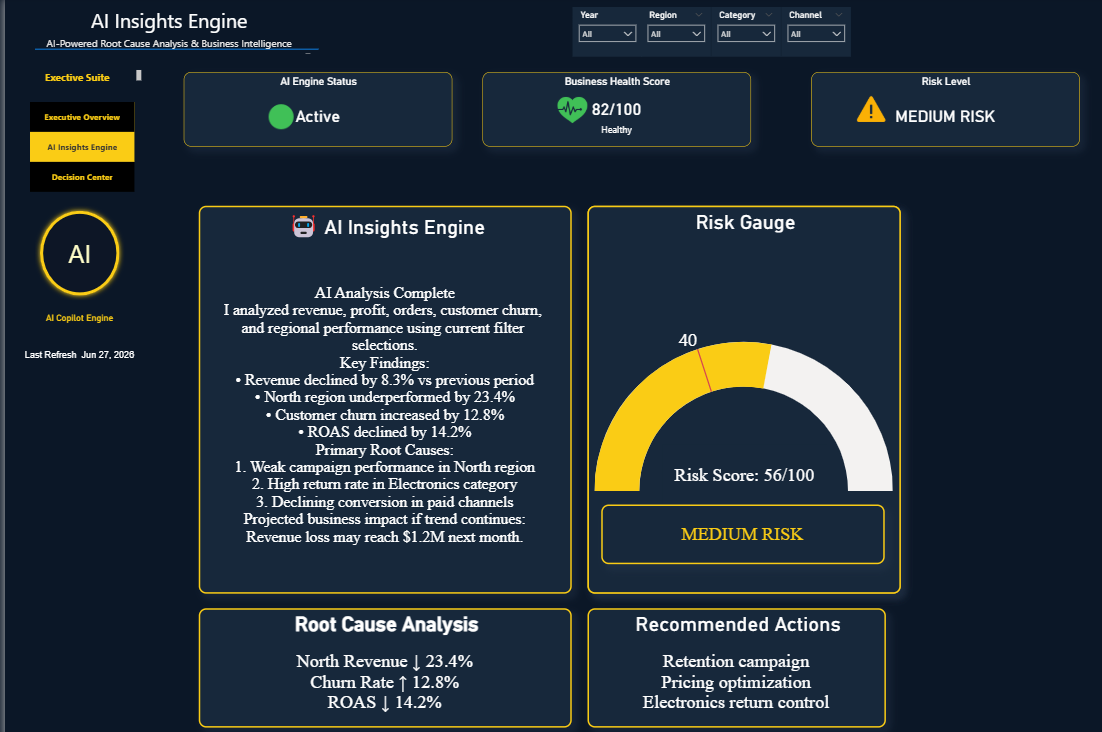

The page's visual inventory and layout, read from the dashboard file:
{"tool":"powerbi","page":{"name":"AI  Insights Engine","canvas":[1800,1200],"ordinal":1},"visuals":[{"type":"gauge","title":"Risk Gauge","fields":{"Y":["KPI_Table.Risk Scores"],"MinValue":["KPI_Table.Gauge Min"],"MaxValue":["KPI_Table.Gauge Max"],"TargetValue":["KPI_Table.Risk Targets"]},"box":[936,336,504,624],"z":0,"group":"g6"},{"type":"group","id":"g1","title":"Group 5","box":[936,336,504,624],"z":0},{"type":"gauge","title":"Risk Gauge","fields":{"Y":["KPI_Table.Risk Scores"],"MinValue":["KPI_Table.Gauge Min"],"MaxValue":["KPI_Table.Gauge Max"],"TargetValue":["KPI_Table.Risk Targets"]},"box":[936,336,504,624],"z":0,"group":"g1"},{"type":"shape","box":[48,0,456,168],"z":1000},{"type":"card","title":"Recommended Actions","fields":{"Values":["KPI_Table.Gauge Content"]},"box":[1056,720,264,96],"z":1000,"group":"g6"},{"type":"card","title":"Recommended Actions","fields":{"Values":["KPI_Table.Gauge Content"]},"box":[1056,792,264,96],"z":1000,"group":"g1"},{"type":"textbox","title":"AI Insights Engine","box":[32,16,464,80],"z":2000},{"type":"slicer","fields":{"Values":["Date_Table.Year"]},"box":[912,16,112,80],"z":3000},{"type":"slicer","fields":{"Values":["Sales_Data.Region"]},"box":[1024,16,112,80],"z":4000},{"type":"slicer","fields":{"Values":["Sales_Data.Category"]},"box":[1136,16,112,80],"z":5000},{"type":"slicer","fields":{"Values":["Sales_Data.Channel"]},"box":[1248,16,112,80],"z":6000},{"type":"card","title":"Business Health Score","fields":{"Values":["KPI_Table.Healthy"]},"box":[768,120,432,120],"z":6000,"group":"g4"},{"type":"textbox","box":[16,112,208,32],"z":7000},{"type":"card","title":"AI Engine Status","fields":{"Values":["KPI_Table.AI Engine Status"]},"box":[288,120,432,120],"z":7000,"group":"g3"},{"type":"card","title":"Risk Level","fields":{"Values":["KPI_Table.Risk Level"]},"box":[1296,120,432,120],"z":8000,"group":"g5"},{"type":"group","id":"g2","title":"Group 1","box":[15.8,168,208,376],"z":8000},{"type":"card","title":"🤖 AI Insights Engine","fields":{"Values":["KPI_Table.AI Analysis Complete"]},"box":[312,336,600,624],"z":9000},{"type":"card","title":"Root Cause Analysis","fields":{"Values":["KPI_Table.Root Cause Analysis"]},"box":[312,984,600,192],"z":10000},{"type":"card","title":"AI Insights","fields":{"Values":["Customer_Data.Refresh"]},"box":[24,552,192,48],"z":11000},{"type":"group","id":"g3","title":"Group 2","box":[288,120,432,144],"z":12000},{"type":"pageNavigator","box":[39.8,168,168,48],"z":12000,"group":"g2"},{"type":"group","id":"g4","title":"Group 3","box":[768,120,432,120],"z":13000},{"type":"pageNavigator","box":[39.8,216,168,48],"z":13000,"group":"g2"},{"type":"group","id":"g5","title":"Group 4","box":[1296,120,432,120],"z":14000},{"type":"pageNavigator","box":[39.8,264,168,48],"z":14000,"group":"g2"},{"type":"shape","box":[47.8,334.5,144,152.4],"z":15000,"group":"g2"},{"type":"card","title":"Recommended Actions","fields":{"Values":["KPI_Table.Recommended Actions AI"]},"box":[936,984,480,192],"z":15000},{"type":"group","id":"g6","title":"Group 5","box":[936,336,504,624],"z":16000},{"type":"card","fields":{"Values":["KPI_Table.DC Panel"]},"box":[15.8,486.9,208,57.1],"z":16000,"group":"g2"},{"type":"card","title":"Recommended Actions","fields":{"Values":["KPI_Table.Risk Level"]},"box":[960,816,456,96],"z":17000},{"type":"card","fields":{"Values":["KPI_Table.AI"]},"box":[63.8,372.6,112,76.2],"z":18000,"group":"g2"},{"type":"image","box":[1368,144,48,72],"z":23000,"group":"g5"},{"type":"image","box":[408,120,72,144],"z":29001,"group":"g3"},{"type":"image","box":[888,144,48,72],"z":29002,"group":"g4"}]}

Visuals, with their boxes in screenshot pixels (x1, y1, x2, y2), scaled from the page's 1800x1200 canvas onto the 1102x732 screenshot:
"Risk Gauge" gauge: box=[573, 205, 882, 586]
"Group 5" group: box=[573, 205, 882, 586]
"Risk Gauge" gauge: box=[573, 205, 882, 586]
shape: box=[29, 0, 309, 102]
"Recommended Actions" card: box=[647, 439, 808, 498]
"Recommended Actions" card: box=[647, 483, 808, 542]
"AI Insights Engine" textbox: box=[20, 10, 304, 59]
slicer - Date_Table.Year: box=[558, 10, 627, 59]
slicer - Sales_Data.Region: box=[627, 10, 695, 59]
slicer - Sales_Data.Category: box=[695, 10, 764, 59]
slicer - Sales_Data.Channel: box=[764, 10, 833, 59]
"Business Health Score" card: box=[470, 73, 735, 146]
textbox: box=[10, 68, 137, 88]
"AI Engine Status" card: box=[176, 73, 441, 146]
"Risk Level" card: box=[793, 73, 1058, 146]
"Group 1" group: box=[10, 102, 137, 332]
"🤖 AI Insights Engine" card: box=[191, 205, 558, 586]
"Root Cause Analysis" card: box=[191, 600, 558, 717]
"AI Insights" card: box=[15, 337, 132, 366]
"Group 2" group: box=[176, 73, 441, 161]
pageNavigator: box=[24, 102, 127, 132]
"Group 3" group: box=[470, 73, 735, 146]
pageNavigator: box=[24, 132, 127, 161]
"Group 4" group: box=[793, 73, 1058, 146]
pageNavigator: box=[24, 161, 127, 190]
shape: box=[29, 204, 117, 297]
"Recommended Actions" card: box=[573, 600, 867, 717]
"Group 5" group: box=[573, 205, 882, 586]
card - KPI_Table.DC Panel: box=[10, 297, 137, 332]
"Recommended Actions" card: box=[588, 498, 867, 556]
card - KPI_Table.AI: box=[39, 227, 108, 274]
image: box=[838, 88, 867, 132]
image: box=[250, 73, 294, 161]
image: box=[544, 88, 573, 132]
